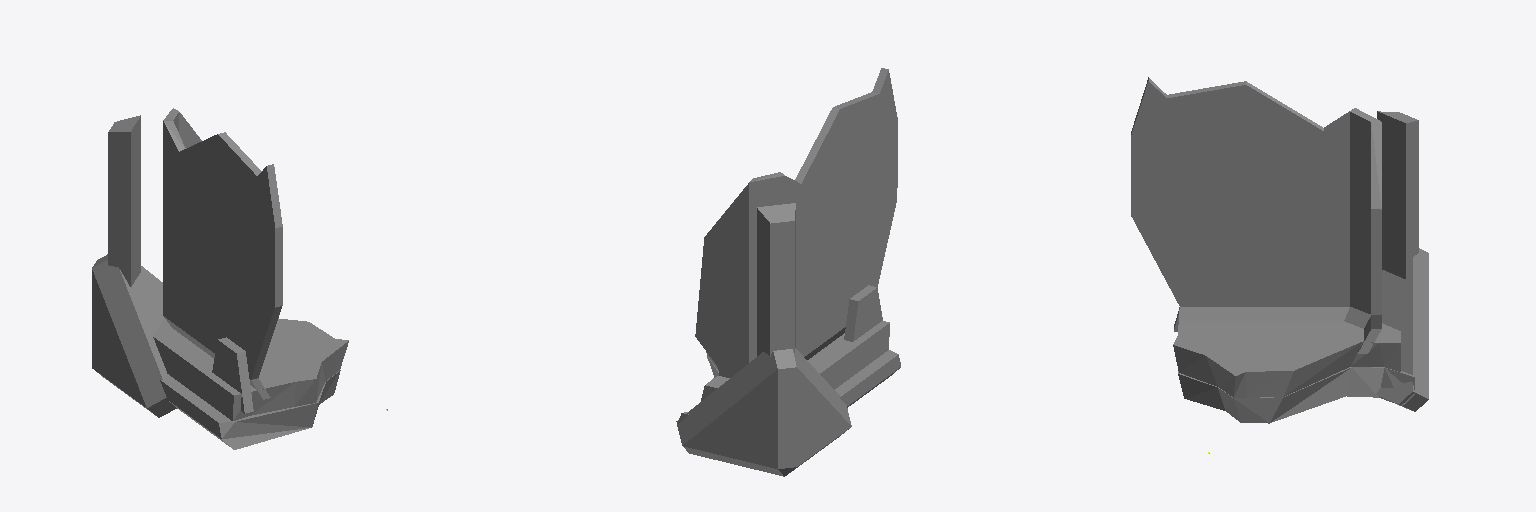
File: cpz_obj_breakbox_brk_003.obj
3 views of the same model, side by side, from view 1: azimuth 30°, elevation 25°; view 2: azimuth 150°, elevation 25°; view 3: azimuth 270°, elevation 25° (orthographic).
Parts seen in each view (by area): view 1: cpz_glass_tn1_glasstube, cpz_metal_yy_slop_cmn_dpn, cpz_metal_st1_tank01_cmn_dpnE, ccp_metal_yy_yelow_Cmn_dpn, cpz_yy1_road_cmn_dp; view 2: cpz_glass_tn1_glasstube, cpz_metal_yy_slop_cmn_dpn, cpz_metal_st1_tank01_cmn_dpnE, ccp_metal_yy_yelow_Cmn_dpn, cpz_yy1_road_cmn_dp; view 3: cpz_glass_tn1_glasstube, cpz_metal_yy_slop_cmn_dpn, cpz_metal_st1_tank01_cmn_dpnE, cpz_yy1_road_cmn_dp, ccp_metal_yy_yelow_Cmn_dpn.
Part boxes in pixels (x1,y1,x2,y2): cpz_glass_tn1_glasstube: (163, 108, 282, 399); cpz_metal_yy_slop_cmn_dpn: (92, 115, 348, 449); cpz_metal_st1_tank01_cmn_dpnE: (108, 116, 253, 413); ccp_metal_yy_yelow_Cmn_dpn: (153, 324, 252, 420); cpz_yy1_road_cmn_dp: (108, 233, 140, 286); cpz_glass_tn1_glasstube: (695, 68, 897, 377); cpz_metal_yy_slop_cmn_dpn: (676, 203, 900, 476); cpz_metal_st1_tank01_cmn_dpnE: (757, 208, 882, 341); ccp_metal_yy_yelow_Cmn_dpn: (701, 321, 889, 400); cpz_yy1_road_cmn_dp: (757, 322, 795, 356); cpz_glass_tn1_glasstube: (1131, 77, 1381, 353); cpz_metal_yy_slop_cmn_dpn: (1173, 111, 1428, 423); cpz_metal_st1_tank01_cmn_dpnE: (1174, 111, 1418, 331); cpz_yy1_road_cmn_dp: (1382, 224, 1418, 278); ccp_metal_yy_yelow_Cmn_dpn: (1379, 323, 1400, 371).
Bounding box in the file's own units: 36.36 × 54.64 × 48.68.